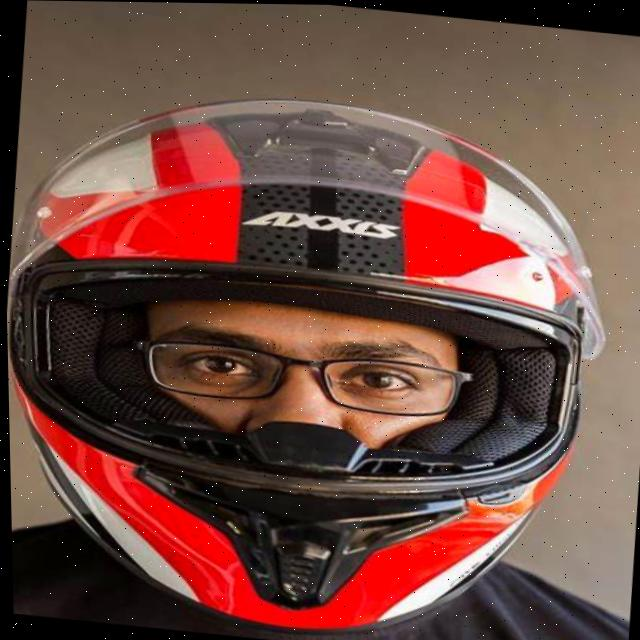helmet: (1, 58, 640, 640)
